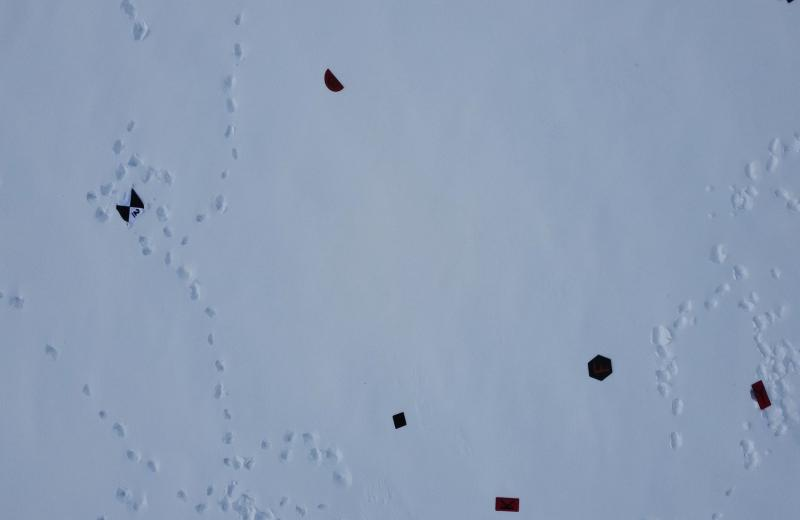Hexagon: (587, 349, 617, 384)
Rectangle: (750, 374, 774, 414), (492, 492, 523, 515)
Semi Circle: (318, 68, 343, 99)
Square: (389, 410, 412, 434)
